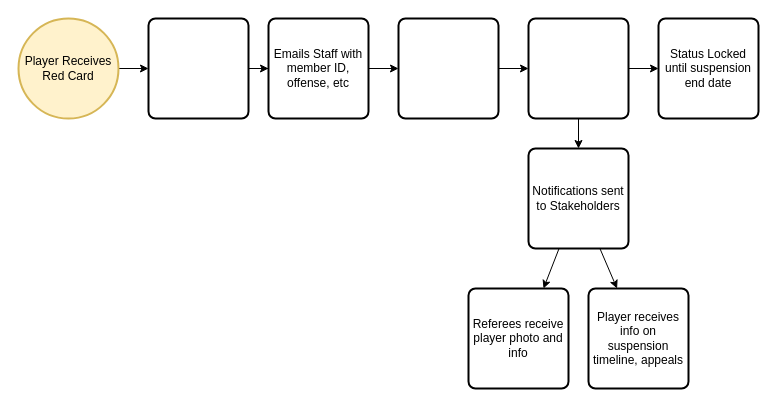
Some shapes in this 776 by 406 pixel diagram are drawn without their labels. The box of each missing label's shape, as (x1, y1, x2, y2) in pixels:
Membership Status = SUSPENDED: (527, 17, 629, 119)
Ref Collects member ID: (147, 17, 249, 119)
Staff Updates Membership Status: (397, 17, 499, 119)
